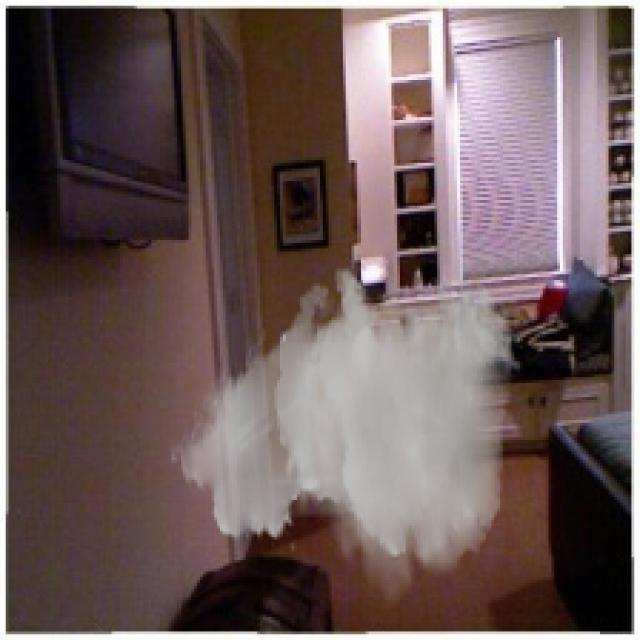Smoke: (168, 266, 514, 614)
